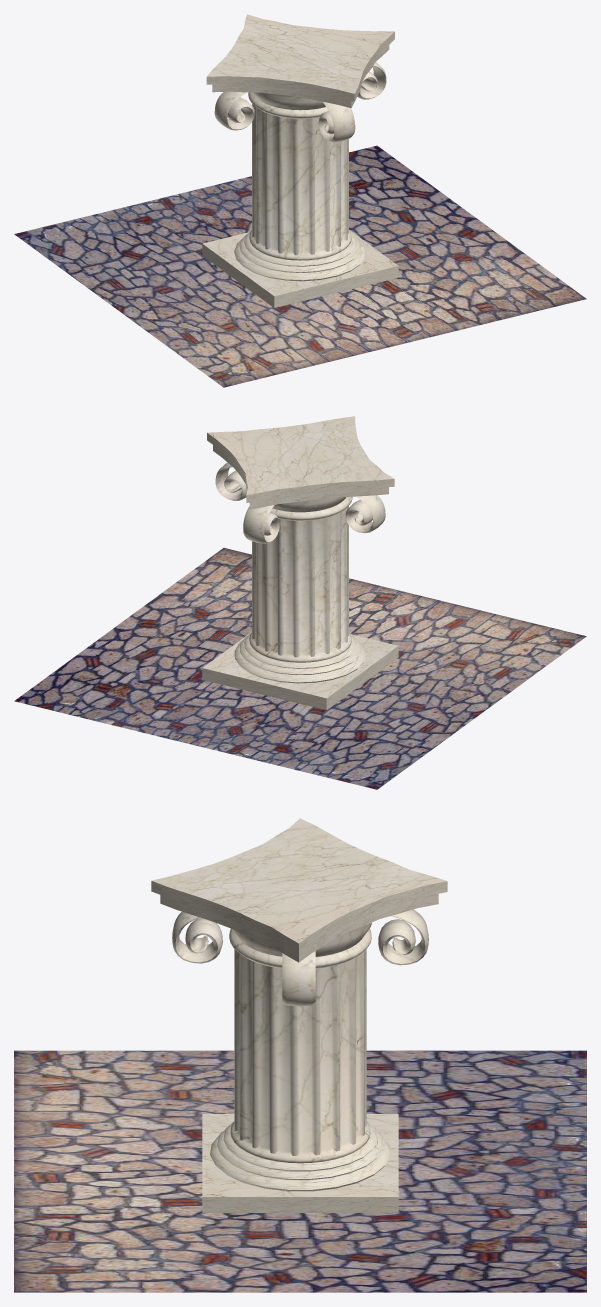
The model's file is Stand.fbx.
The picture shows the model from 3 angles, top to bottom: view 1: azimuth 30°, elevation 25°; view 2: azimuth 150°, elevation 25°; view 3: azimuth 270°, elevation 25°; orthographic projection. The views are drawn at different scales.
Parts seen in each view (by area): view 1: grid, cylinder, cube2, cube1, sphere2, polymsh2, polymsh1, sphere1, sphere, polymsh3; view 2: grid, cylinder, cube2, cube1, sphere2, polymsh2, polymsh, sphere1, sphere, polymsh3; view 3: grid, cylinder, cube2, cube1, sphere2, polymsh, polymsh1, sphere1, sphere, polymsh3.
Part boxes in pixels (x1,y1,x2,y2): grid: (14, 145, 586, 387); cylinder: (248, 92, 351, 260); cube2: (206, 14, 394, 107); cube1: (202, 230, 398, 307); sphere2: (234, 238, 366, 281); polymsh2: (214, 91, 254, 130); polymsh1: (318, 101, 355, 142); sphere1: (239, 232, 361, 272); sphere: (244, 230, 356, 266); polymsh3: (357, 62, 386, 99); grid: (14, 548, 586, 789); cylinder: (249, 496, 352, 662); cube2: (207, 416, 394, 509); cube1: (202, 632, 398, 710); sphere2: (234, 640, 366, 683); polymsh2: (345, 495, 385, 533); polymsh: (243, 505, 279, 543); sphere1: (240, 634, 361, 675); sphere: (244, 632, 356, 668); polymsh3: (215, 462, 246, 500); grid: (14, 1050, 586, 1292); cylinder: (229, 922, 371, 1163); cube2: (151, 818, 447, 962); cube1: (202, 1114, 398, 1212); sphere2: (210, 1131, 390, 1191); polymsh: (378, 909, 428, 965); polymsh1: (172, 911, 222, 963); sphere1: (217, 1124, 383, 1180); sphere: (223, 1121, 377, 1171); polymsh3: (282, 951, 315, 1006).
Size of the model in its own units: 9.18 by 5.16 by 9.18.
Materials: 9 (9 with a texture image).
